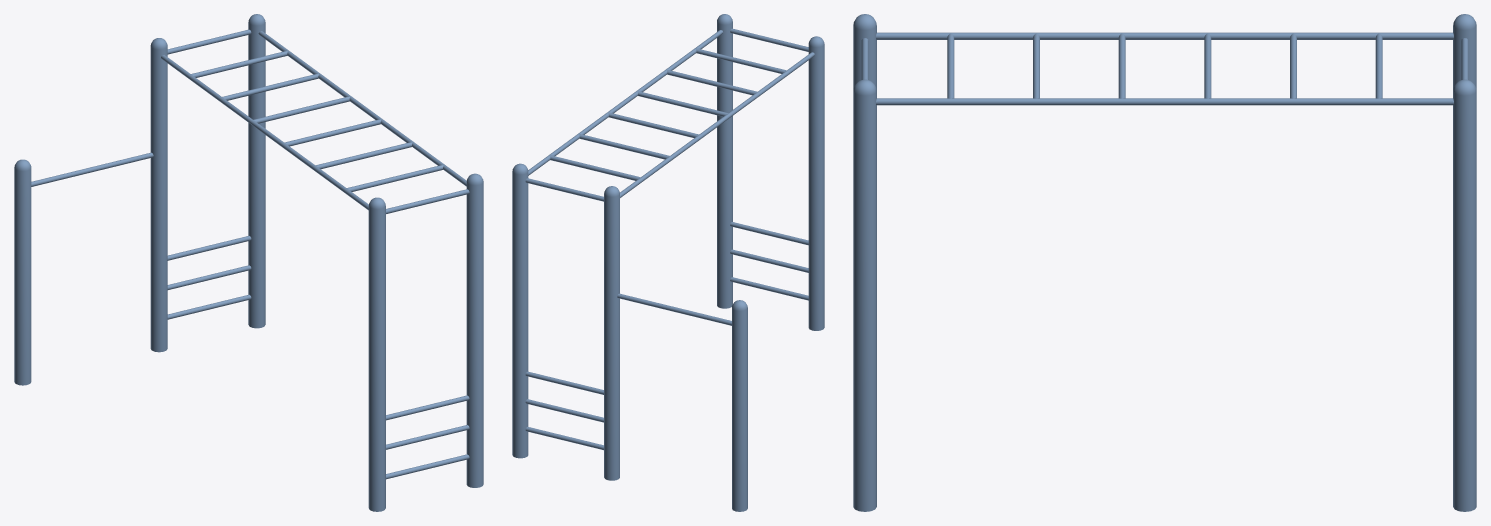
Rendered from monkeybar.glb.
The picture shows the model from 3 angles, left to right: view 1: azimuth 30°, elevation 25°; view 2: azimuth 150°, elevation 25°; view 3: azimuth 270°, elevation 25°; orthographic projection. The views are drawn at different scales.
Parts seen in each view (by area): view 1: monkey_bar; view 2: monkey_bar; view 3: monkey_bar.
Part boxes in pixels (x1,y1,x2,y2): monkey_bar: (14, 14, 483, 511); monkey_bar: (512, 14, 824, 511); monkey_bar: (853, 14, 1476, 511).
Bounding box in the file's own units: 1.68 × 2 × 2.65.
